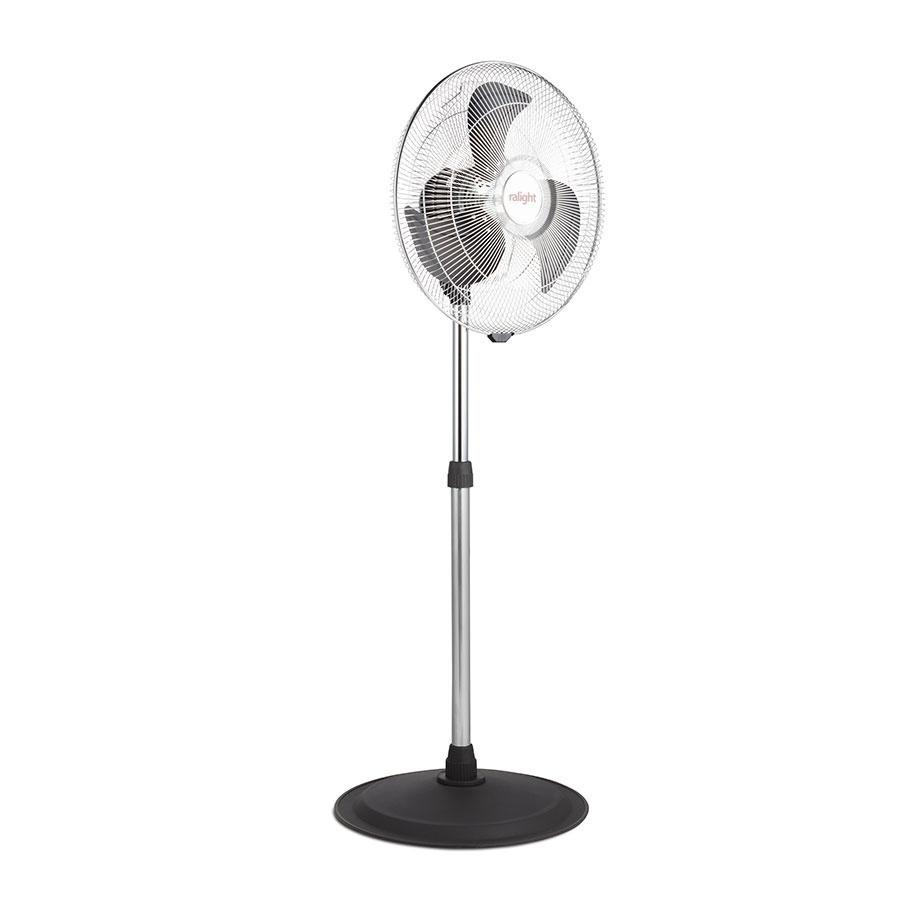fan: (381, 58, 625, 900)
